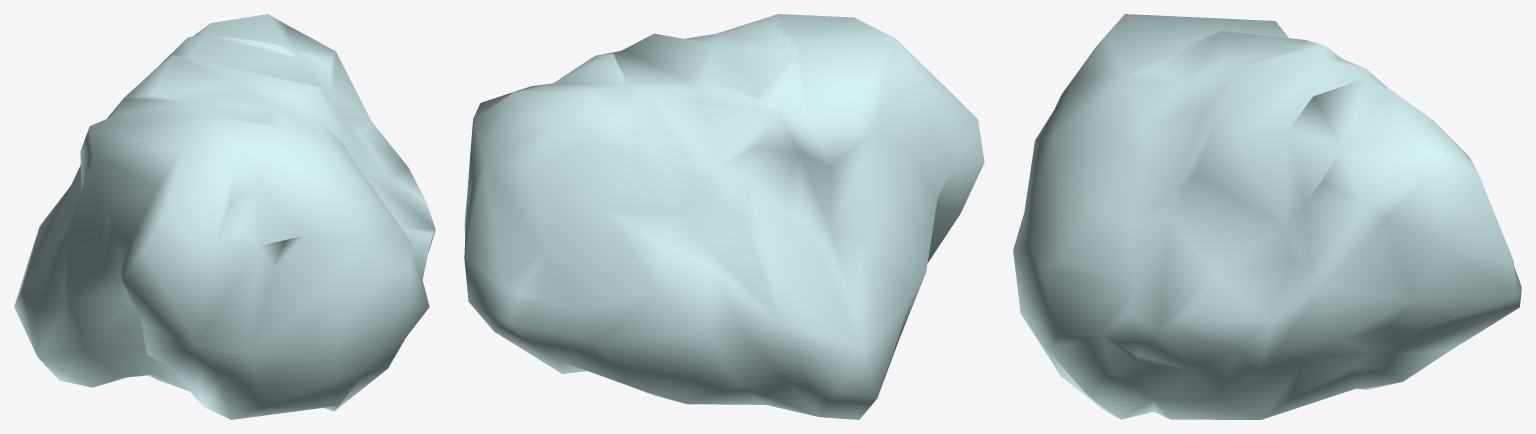
The model's file is rock_small_06.fbx.
The picture shows the model from 3 angles, left to right: view 1: azimuth 30°, elevation 25°; view 2: azimuth 150°, elevation 25°; view 3: azimuth 270°, elevation 25°; orthographic projection. The views are drawn at different scales.
Visible parts, largest first — view 1: rock_small_06_LOD0; view 2: rock_small_06_LOD0; view 3: rock_small_06_LOD0.
Boxes of the visible parts, x1,y1,x2,y2 form: rock_small_06_LOD0: [14, 14, 435, 419]; rock_small_06_LOD0: [464, 14, 984, 419]; rock_small_06_LOD0: [1013, 14, 1521, 419].
Size of what is drawn, in the model's own units: 92.85 by 73.14 by 102.
